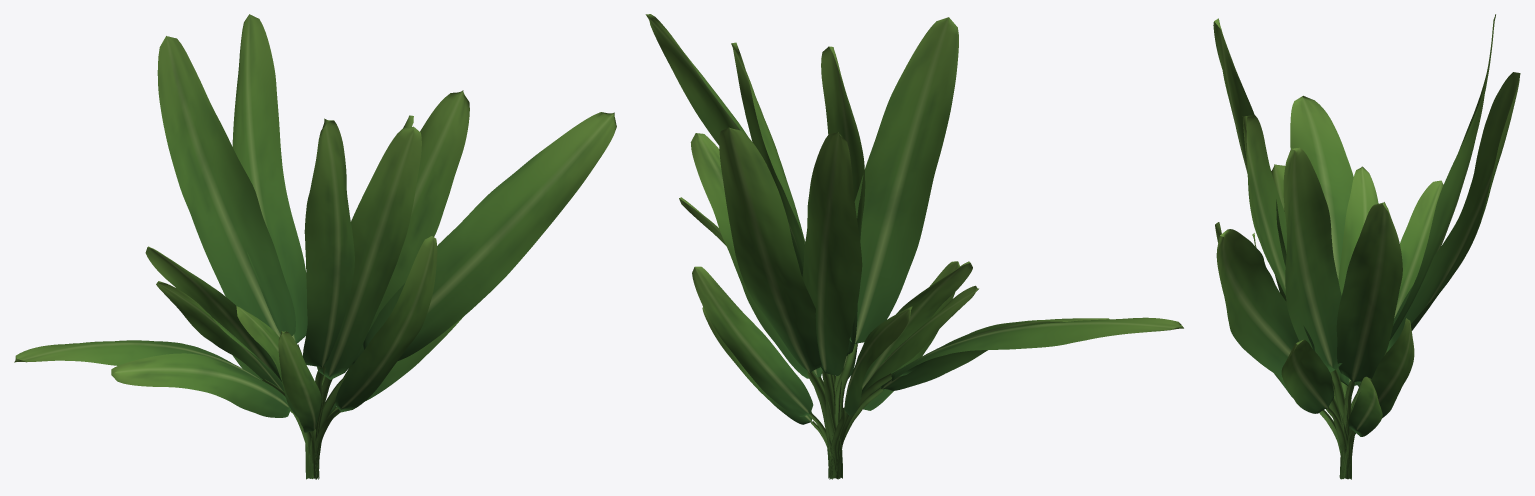
Rendered from pianta-echinodorus.glb.
The picture shows the model from 3 angles, left to right: view 1: azimuth 30°, elevation 25°; view 2: azimuth 150°, elevation 25°; view 3: azimuth 270°, elevation 25°; orthographic projection. The views are drawn at different scales.
Parts seen in each view (by area): view 1: lama_7, lama_12, lama_8, lama_2, lama_3, lama_1, lama_13, lama_15, lama_16, lama_6, lama_5, lama_14 (+2 smaller); view 2: lama_3, lama_8, lama_7, lama_9, lama_16, lama_12, lama_2, lama_0, lama_1, lama_4, lama_15, lama_6 (+5 smaller); view 3: lama_1, lama_0, lama_12, lama_8, lama_16, lama_2, lama_7, lama_11, lama_6, lama_9, lama_5, lama_3 (+4 smaller).
Boxes of the visible parts, x1,y1,x2,y2 form: lama_7: (157, 36, 295, 336); lama_12: (362, 112, 616, 360); lama_8: (232, 14, 307, 343); lama_2: (317, 126, 421, 379); lama_3: (303, 118, 354, 367); lama_1: (351, 90, 469, 364); lama_13: (335, 236, 437, 412); lama_15: (111, 353, 290, 417); lama_16: (14, 340, 260, 379); lama_6: (145, 246, 281, 381); lama_5: (156, 281, 283, 391); lama_14: (278, 331, 321, 432); lama_3: (849, 17, 958, 343); lama_8: (719, 127, 821, 372); lama_7: (802, 132, 862, 375); lama_9: (692, 266, 813, 416); lama_16: (891, 317, 1183, 381); lama_12: (645, 14, 803, 276); lama_2: (821, 46, 865, 355); lama_0: (690, 133, 822, 378); lama_1: (731, 42, 805, 269); lama_4: (862, 261, 972, 392); lama_15: (880, 318, 1109, 390); lama_6: (844, 306, 912, 415); lama_1: (1283, 147, 1342, 372); lama_0: (1336, 202, 1402, 382); lama_12: (1216, 229, 1315, 377); lama_8: (1387, 72, 1520, 351); lama_16: (1290, 95, 1353, 278); lama_2: (1243, 115, 1286, 295); lama_7: (1389, 14, 1495, 340); lama_11: (1281, 339, 1334, 413); lama_6: (1355, 180, 1443, 386); lama_9: (1371, 318, 1414, 418); lama_5: (1338, 166, 1378, 385); lama_3: (1213, 18, 1286, 266).
Bounding box in the file's own units: 0.7046 × 0.4999 × 0.3191.
